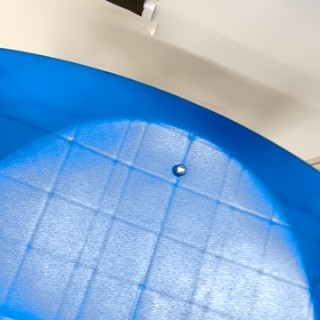ironball: (165, 158, 191, 183)
